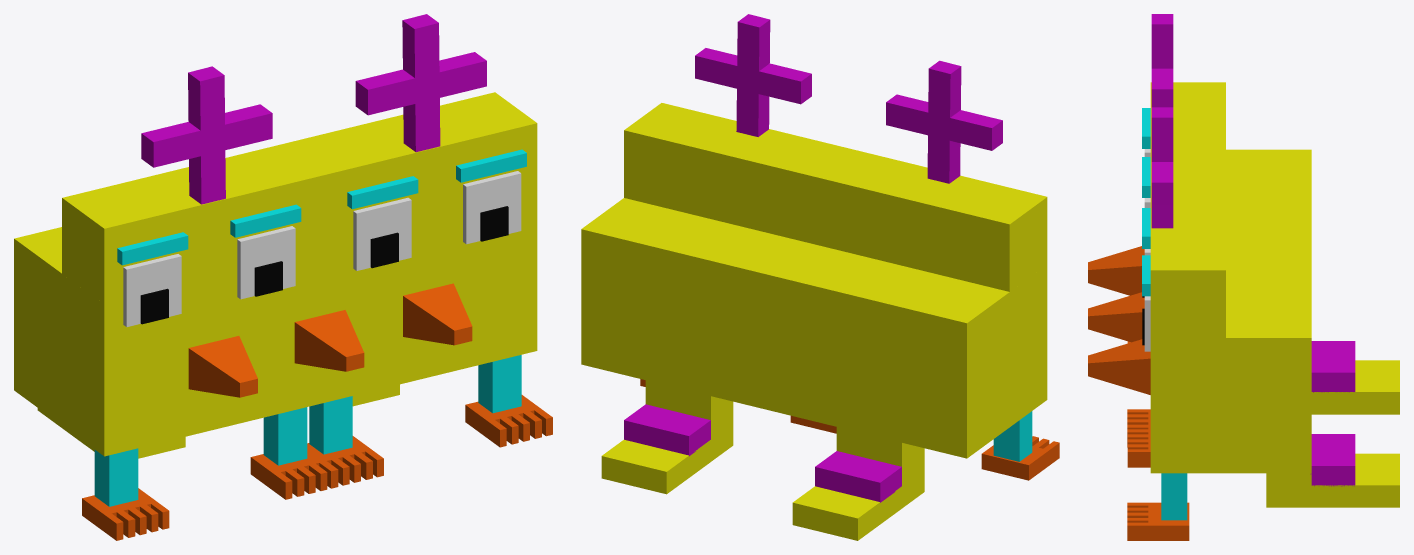
3 renders of one model, left to right at view 1: azimuth 30°, elevation 25°; view 2: azimuth 150°, elevation 25°; view 3: azimuth 270°, elevation 25°, orthographic. The views are drawn at different scales.
Parts seen in each view (by area): view 1: pCube2704, pCube2683, pCube2685, pCube220, pCube2703, pCube219, pCube2705, pCube221, pCube47, pCube60, pCube2686, pCube2699 (+37 smaller); view 2: pCube2704, pCube2709, pCube221, pCube220, pCube2705, pCube2703, pCube219, pCube2707, pCube2710, pCube228, pCube226, pCube2712 (+27 smaller); view 3: pCube221, pCube47, pCube48, pCube59, pCube228, pCube58, pCube227, pCube245, pCube229, pCube2729, pCube246, pCube2730 (+30 smaller).
Part boxes in pixels (x1=…): pCube2704: x1=62, y1=180, x2=177, y2=304; pCube2683: x1=62, y1=349, x2=177, y2=456; pCube2685: x1=62, y1=274, x2=177, y2=381; pCube220: x1=281, y1=127, x2=391, y2=252; pCube2703: x1=136, y1=167, x2=250, y2=285; pCube219: x1=350, y1=114, x2=464, y2=229; pCube2705: x1=225, y1=144, x2=318, y2=257; pCube221: x1=440, y1=92, x2=537, y2=203; pCube47: x1=464, y1=274, x2=537, y2=368; pCube60: x1=402, y1=14, x2=440, y2=152; pCube2686: x1=177, y1=272, x2=250, y2=361; pCube2699: x1=188, y1=66, x2=225, y2=204; pCube2704: x1=944, y1=181, x2=1047, y2=291; pCube2709: x1=902, y1=292, x2=989, y2=391; pCube221: x1=624, y1=103, x2=725, y2=213; pCube220: x1=753, y1=134, x2=855, y2=244; pCube2705: x1=815, y1=150, x2=917, y2=259; pCube2703: x1=879, y1=165, x2=981, y2=275; pCube219: x1=688, y1=118, x2=790, y2=229; pCube2707: x1=902, y1=374, x2=989, y2=458; pCube2710: x1=836, y1=275, x2=921, y2=374; pCube228: x1=581, y1=213, x2=666, y2=312; pCube226: x1=645, y1=230, x2=732, y2=327; pCube2712: x1=772, y1=261, x2=856, y2=359; pCube221: x1=1150, y1=239, x2=1225, y2=337; pCube47: x1=1150, y1=405, x2=1225, y2=473; pCube48: x1=1150, y1=338, x2=1225, y2=405; pCube59: x1=1225, y1=306, x2=1270, y2=405; pCube228: x1=1266, y1=306, x2=1311, y2=405; pCube58: x1=1225, y1=405, x2=1270, y2=473; pCube227: x1=1266, y1=405, x2=1311, y2=473; pCube245: x1=1355, y1=453, x2=1399, y2=507; pCube229: x1=1088, y1=339, x2=1150, y2=394; pCube2729: x1=1354, y1=360, x2=1399, y2=414; pCube246: x1=1310, y1=434, x2=1355, y2=486; pCube2730: x1=1311, y1=341, x2=1355, y2=392.
Bounding box in the file's own units: 11.92 × 11.13 × 8.28.
